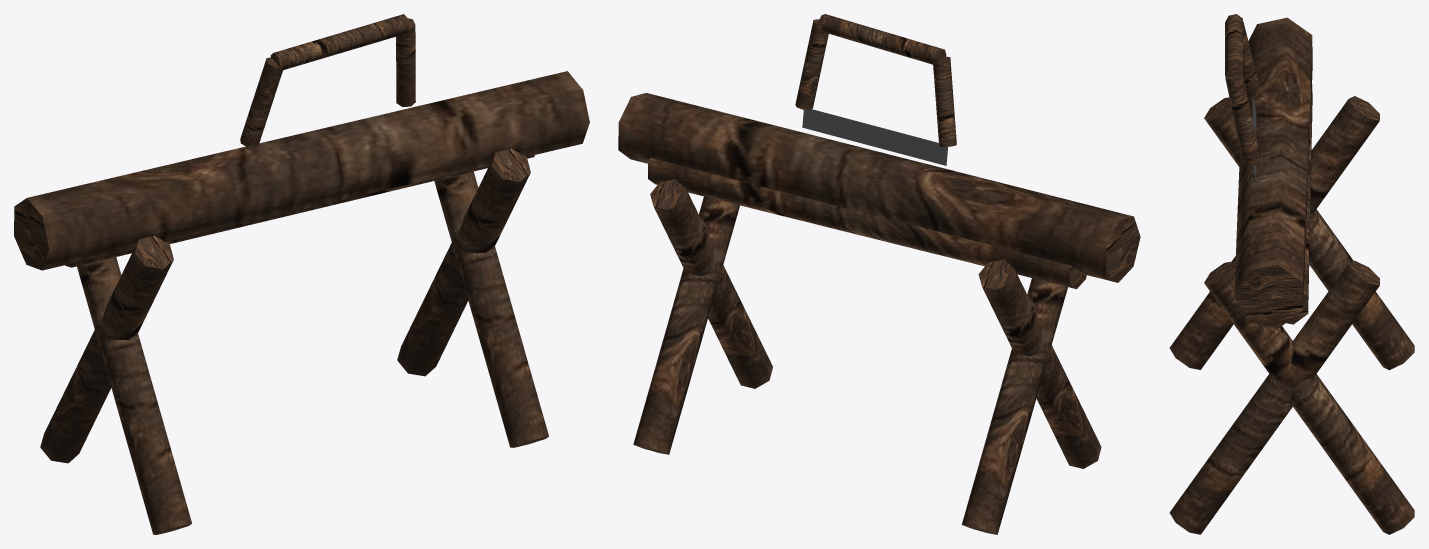
The model's file is sawBench.glb.
3 renders of one model, left to right at view 1: azimuth 30°, elevation 25°; view 2: azimuth 150°, elevation 25°; view 3: azimuth 270°, elevation 25°, orthographic. The views are drawn at different scales.
Parts seen in each view (by area): view 1: part_0; view 2: part_0, part_1; view 3: part_0.
Part boxes in pixels (left/top/right/bottom): part_0: left=14, top=14, right=589, bottom=534; part_0: left=618, top=14, right=1140, bottom=534; part_1: left=802, top=109, right=947, bottom=165; part_0: left=1169, top=14, right=1414, bottom=534.
Size of the model in its own units: 1.61 by 1.27 by 0.6729.
2 materials, 1 textured.
